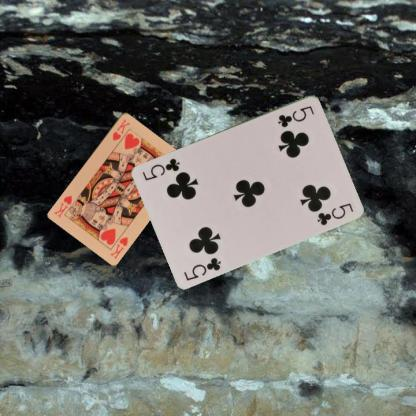5c: (181, 254, 223, 282), (275, 103, 316, 128)
Kh: (110, 116, 132, 142), (107, 234, 129, 260)
